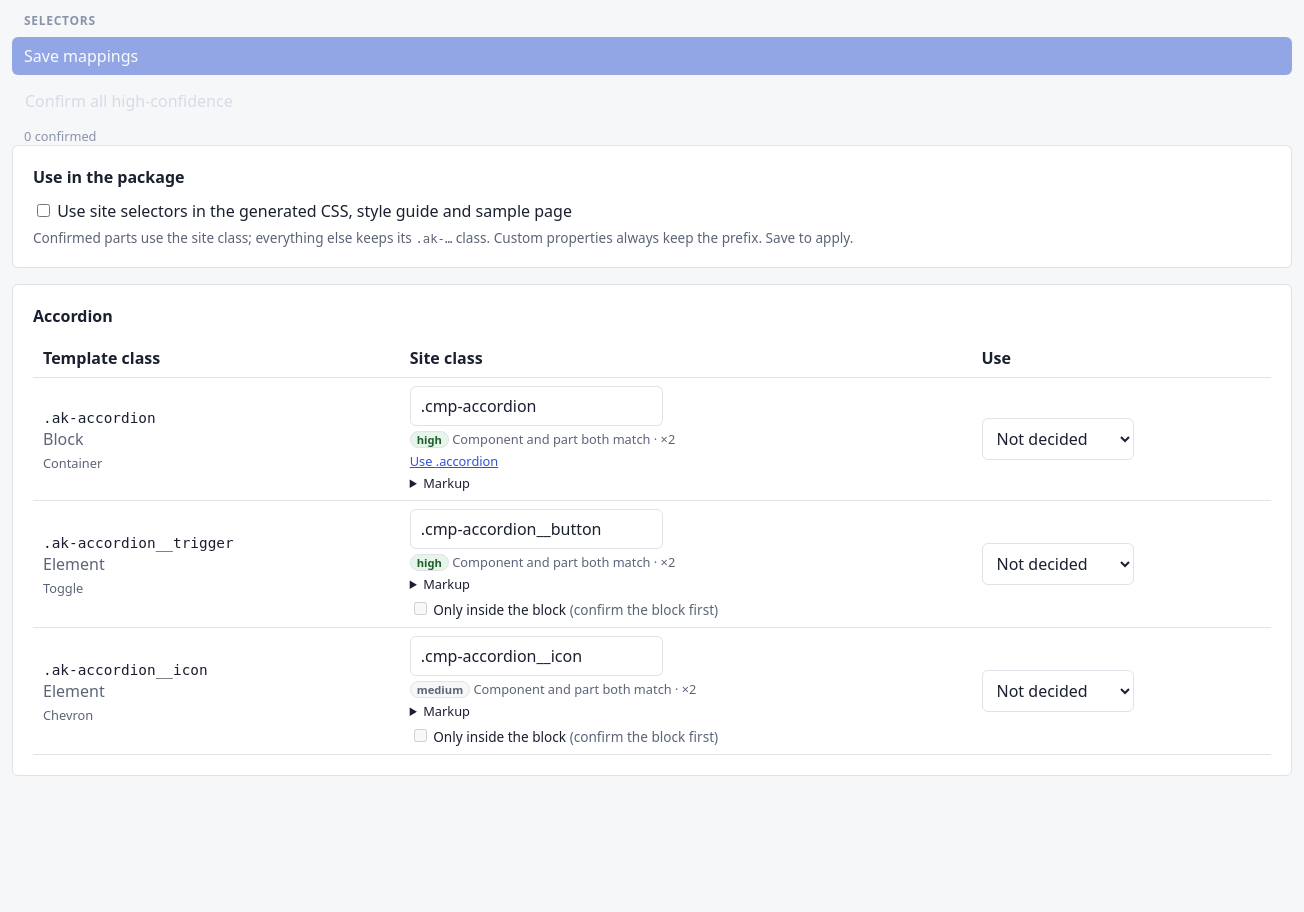
SelectorEditor › prefills suggestions, confirms high-confidence ones and saves only decisions
Expected: the field labelled ".ak-accordion__trigger" holds ".cmp-accordion__button", [410,509,663,549]
Expected: the button "Save mappings" is disabled, [12,37,1292,75]
Click the button "Confirm all high-confidence" at (129, 101), box [12,81,1292,121]
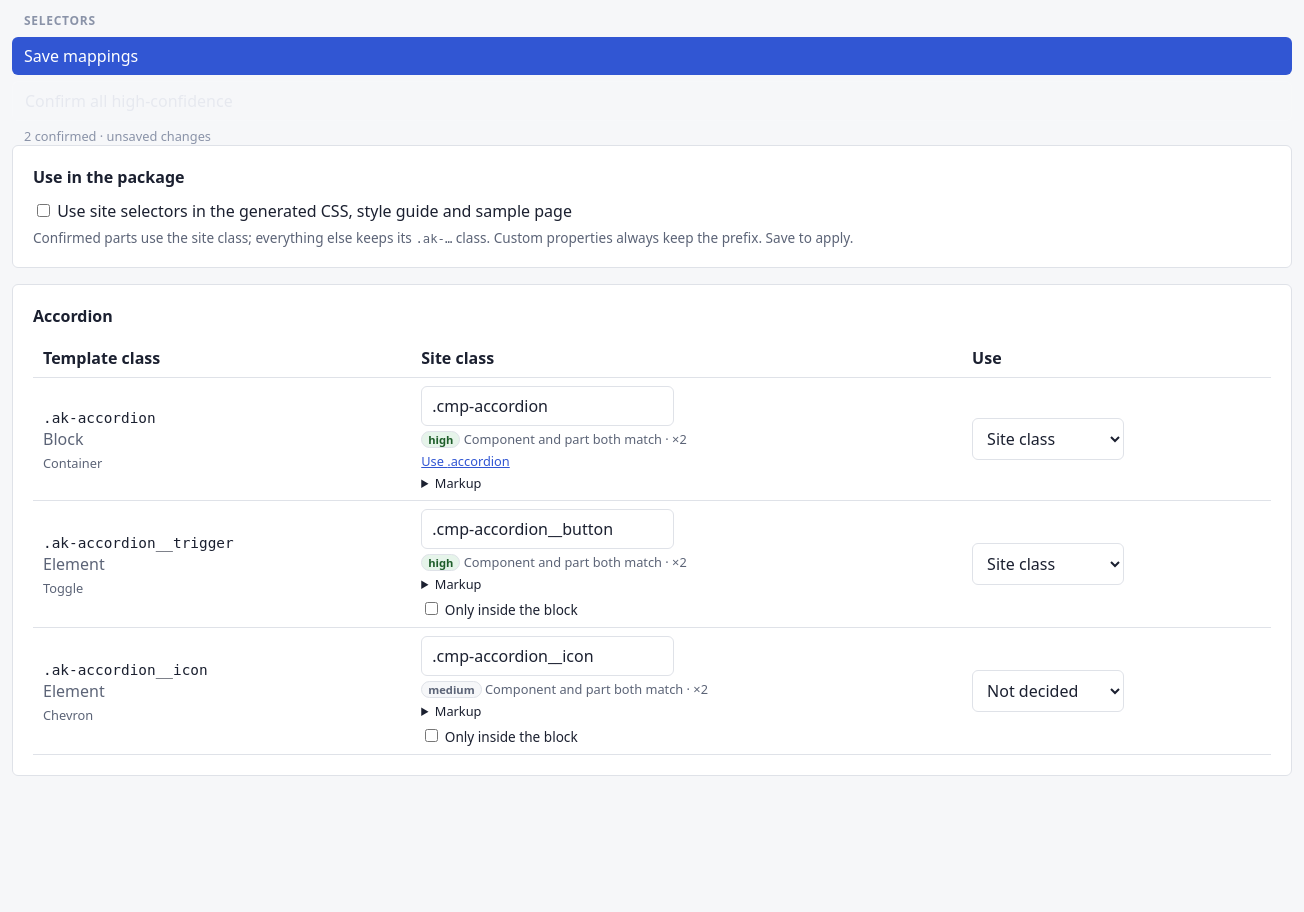
Expected: the dropdown named "Use for .ak-accordion__icon" shows "Not decided", [972,670,1124,712]
Result: the dropdown named "Use for .ak-accordion" shows "Site class" at [972,418,1124,460]
Click the checkbox labelled "Use site selectors" at (44, 210), box [37,204,50,217]
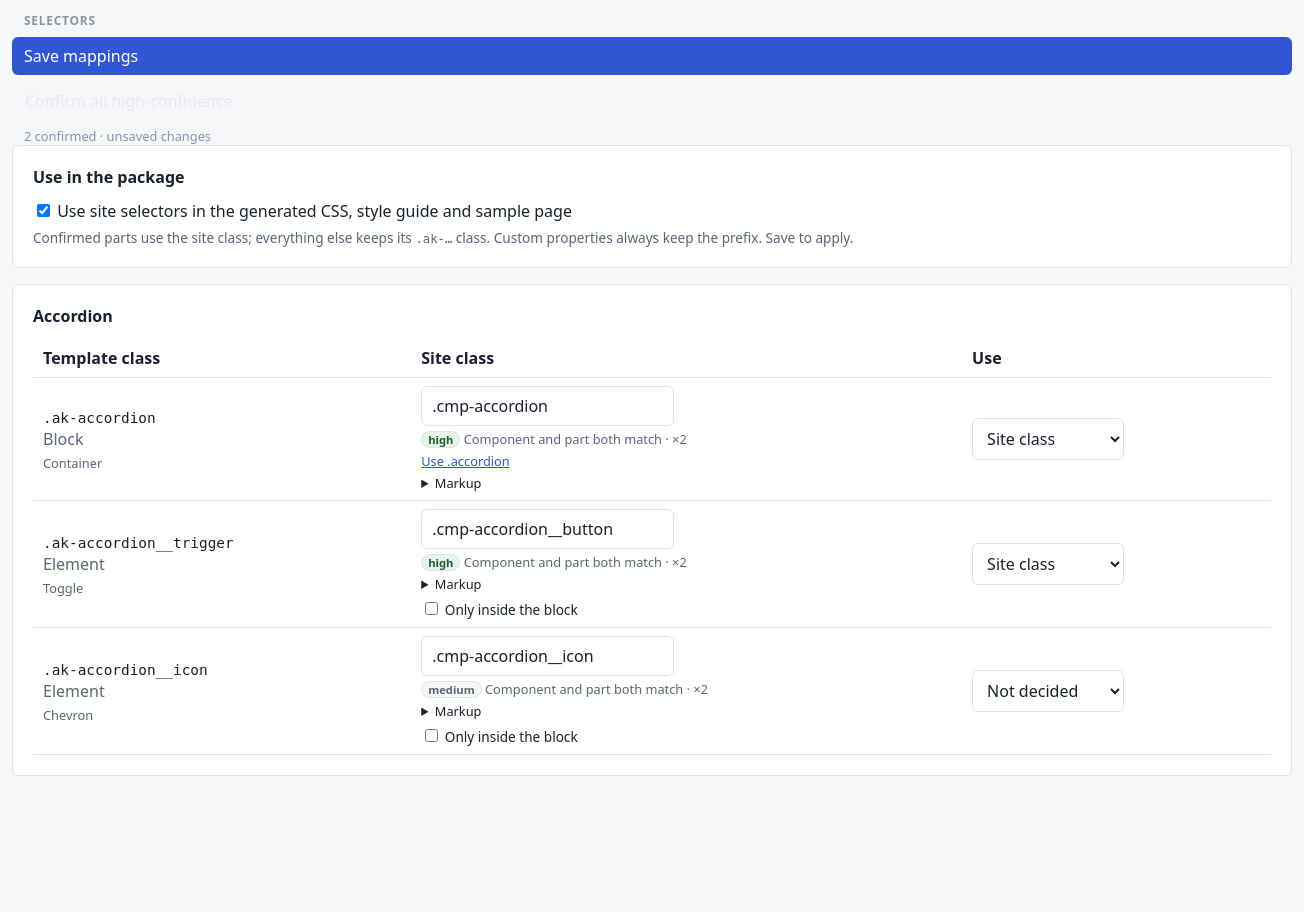
Click the button "Save mappings" at (81, 56), box [12,37,1292,75]
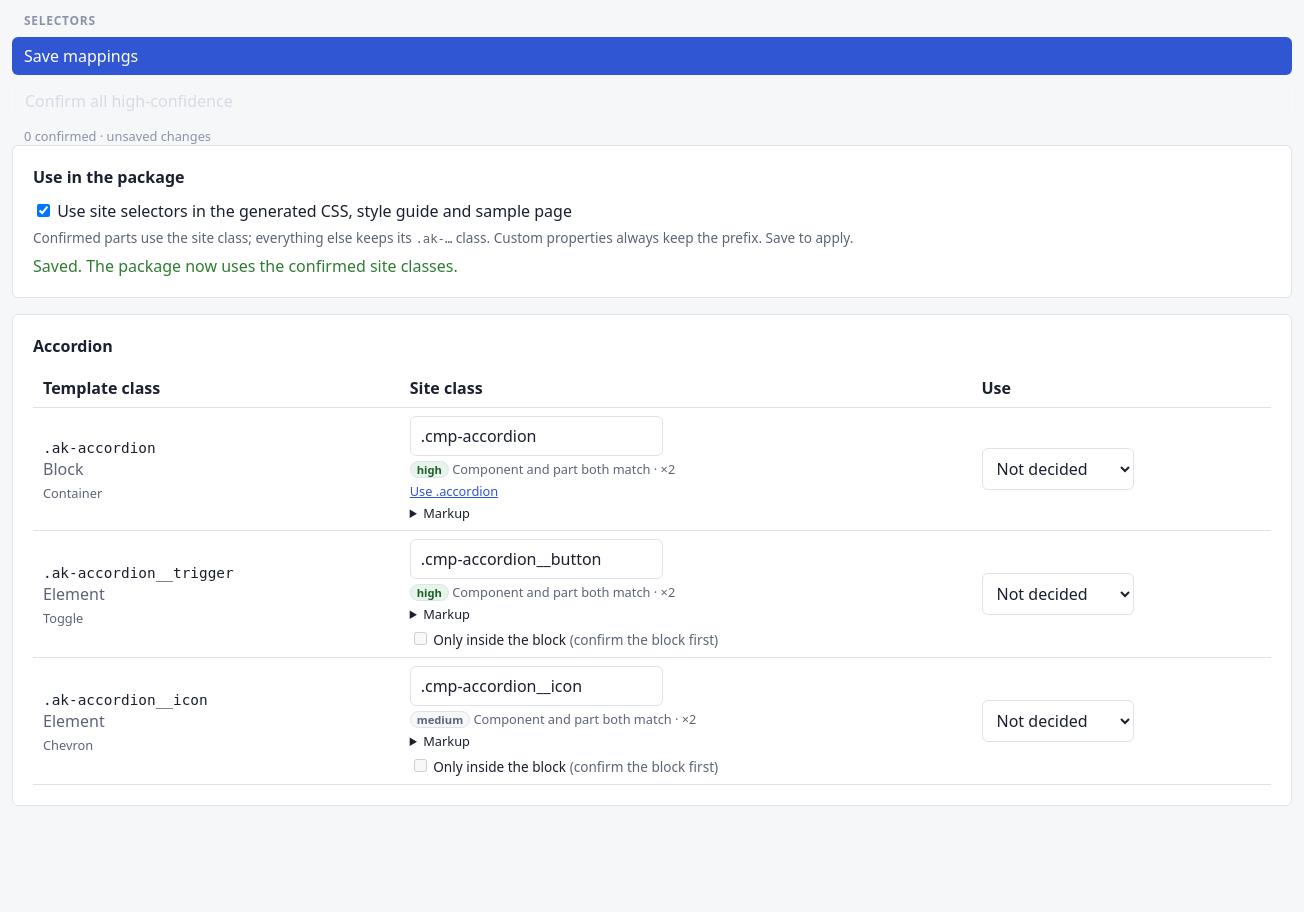
Result: the message shows "now uses the confirmed site classes" at [33,255,458,277]
